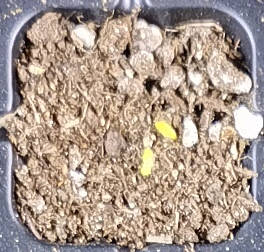pepper seed: (63, 57, 218, 234), (66, 49, 244, 191)
